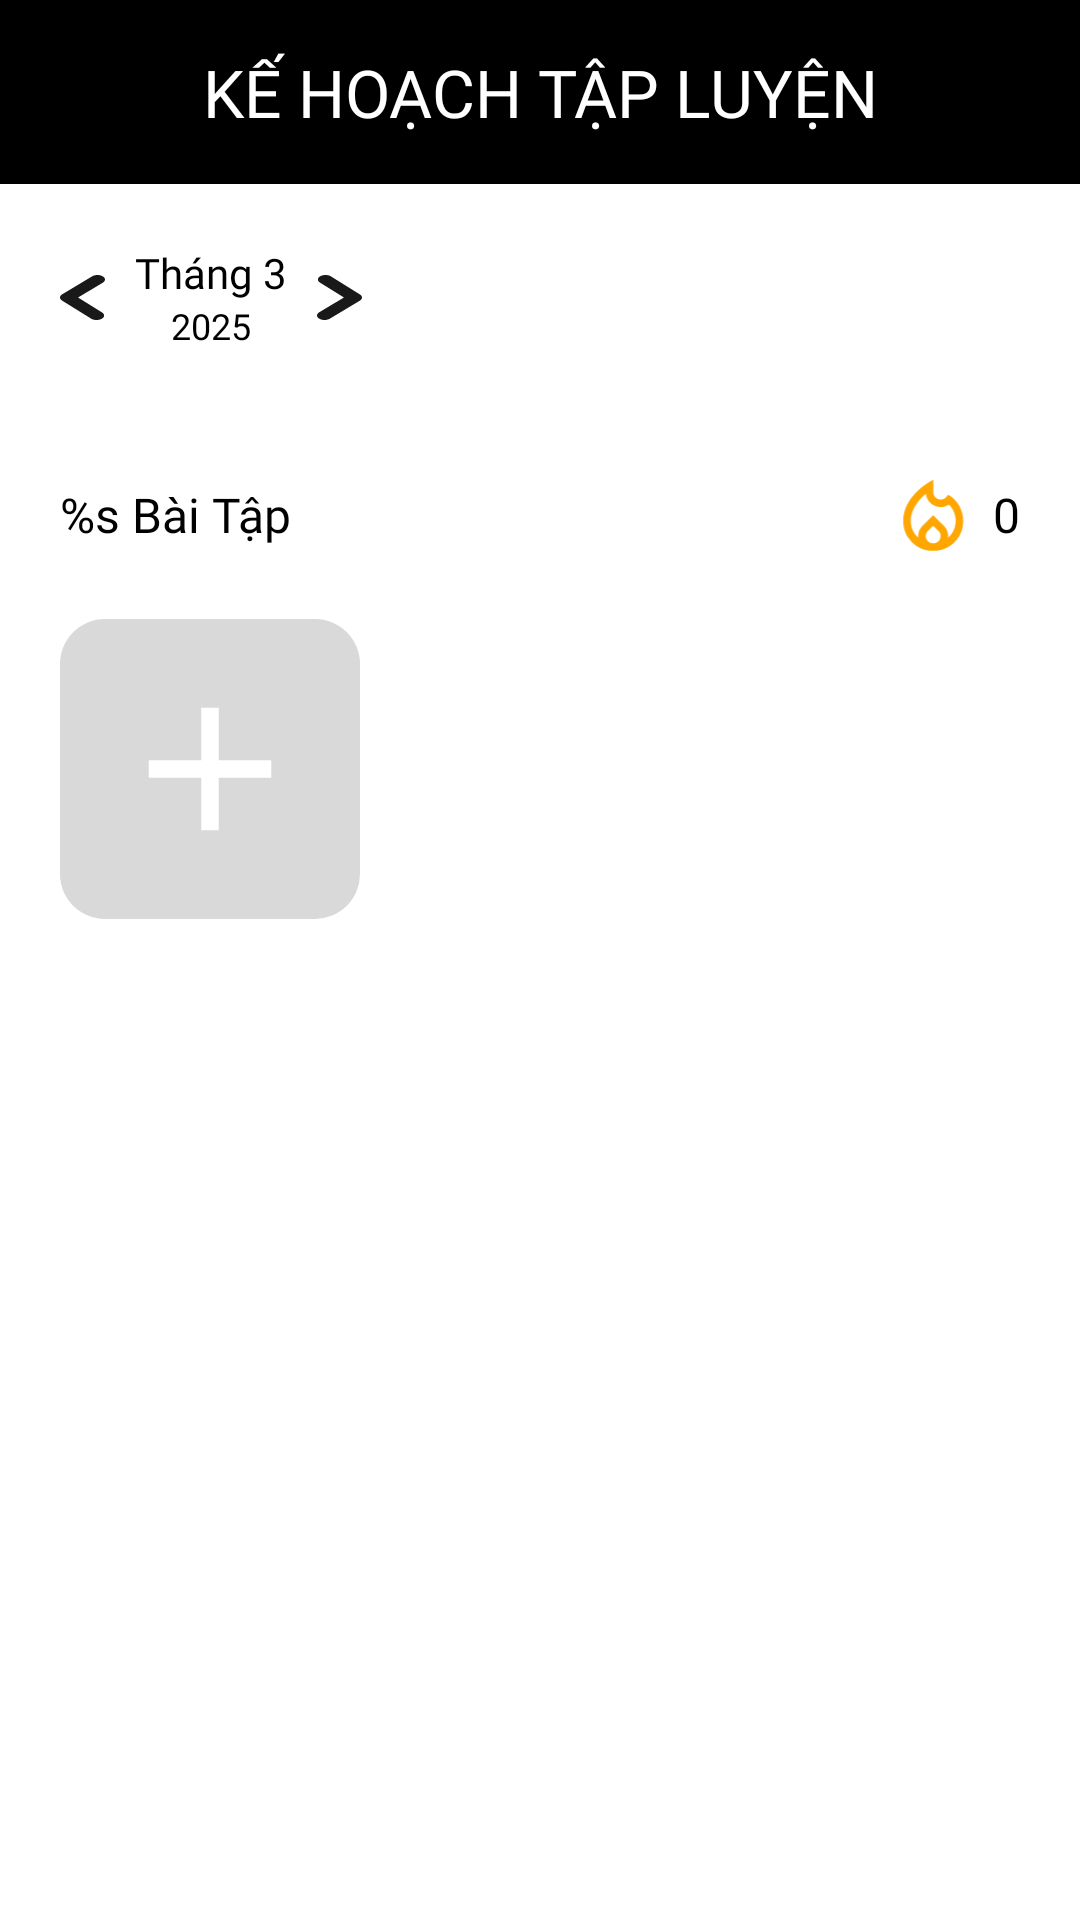

Screen size 1080px x 1920px. Icon name, then its box in pixels as [left=x1, top=y1, right=x2, bottom=y2]:
add: [left=60, top=619, right=360, bottom=919]
local fire department: [left=903, top=480, right=964, bottom=551]
next: [left=317, top=275, right=362, bottom=320]
